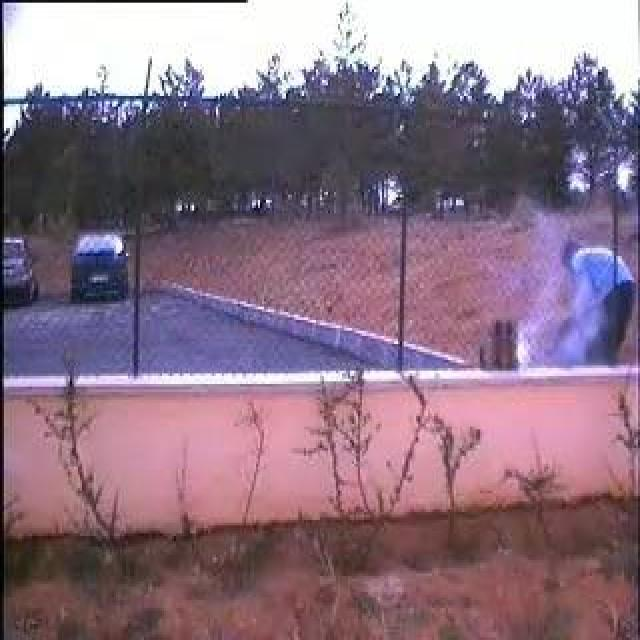Smoke: (514, 224, 562, 368)
